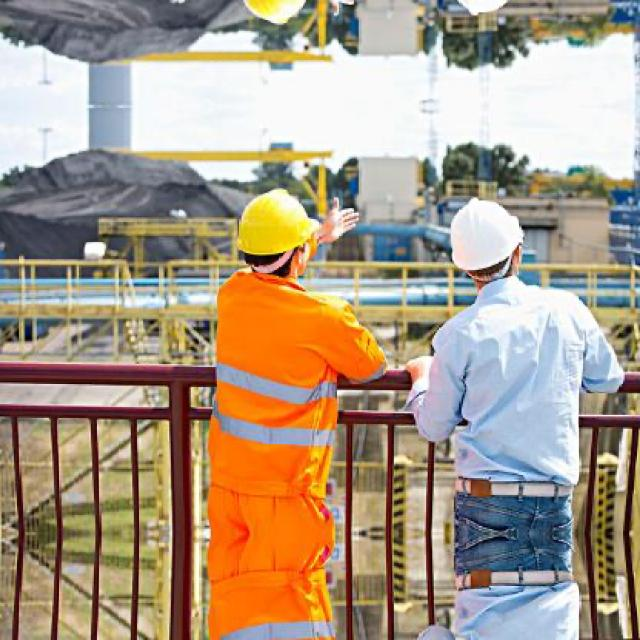con casco: (399, 188, 593, 308), (194, 176, 383, 293)
